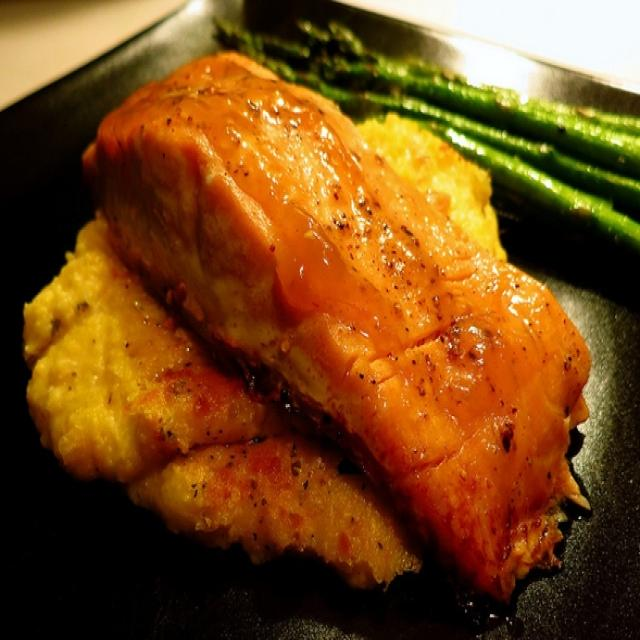熟制海鲜: (15, 22, 617, 612)
